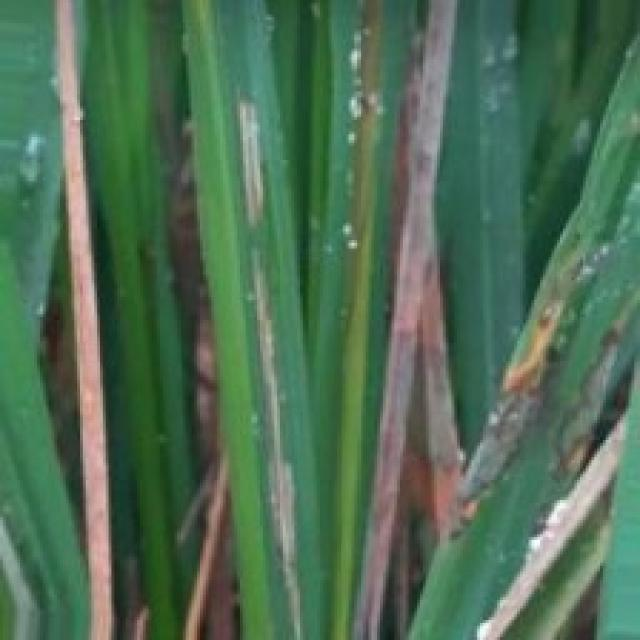Bacterial_Blight: (24, 0, 148, 640), (364, 11, 461, 640), (218, 96, 317, 638), (461, 381, 640, 640)
